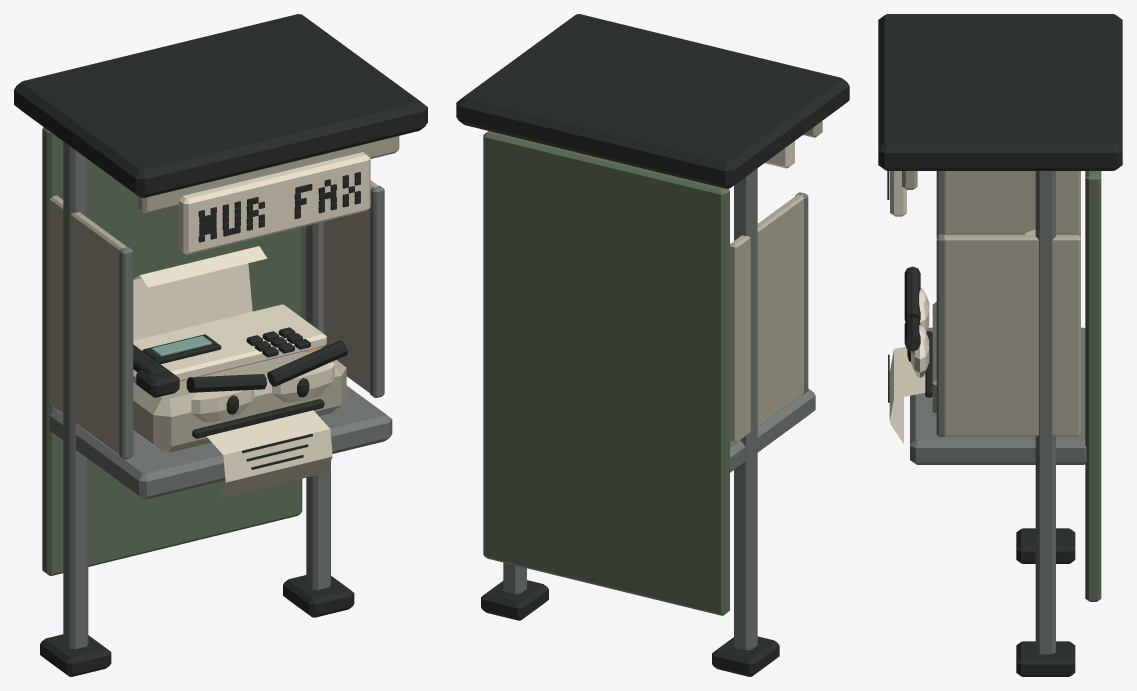
Rendered from judgmental-fax.glb.
3 views of the same model, side by side, from view 1: azimuth 30°, elevation 25°; view 2: azimuth 150°, elevation 25°; view 3: azimuth 270°, elevation 25° (orthographic). The views are drawn at different scales.
Visible parts, largest first — view 1: judgmental-fax; view 2: judgmental-fax; view 3: judgmental-fax.
Part boxes in pixels (x1,y1,x2,y2): judgmental-fax: (14,14,427,676); judgmental-fax: (456,14,849,676); judgmental-fax: (878,14,1122,676).
Size of the model in its own units: 1.42 by 2.6 by 1.08.
